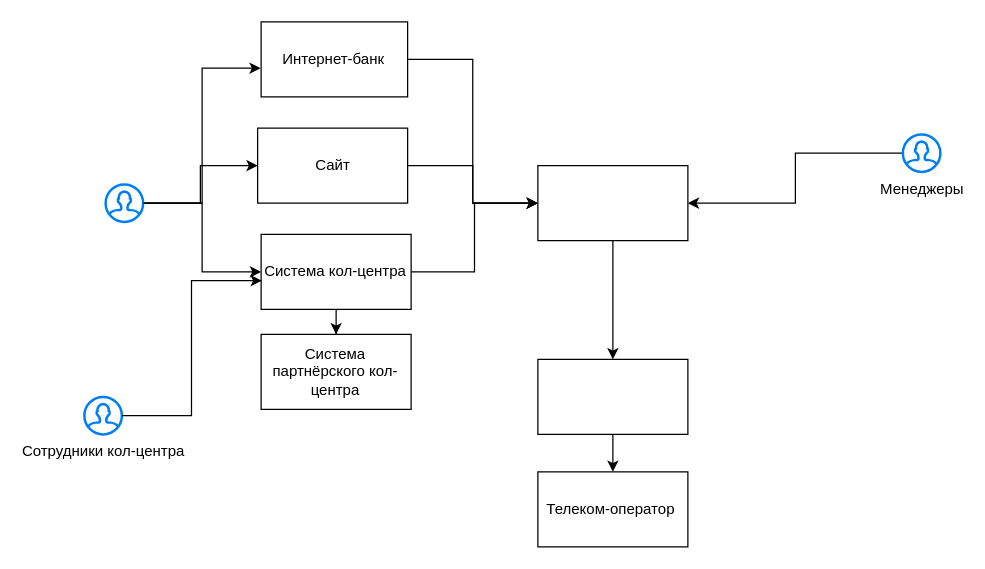
Image size: 985x569. Some labels were removed from this diagram. Each missing label, with the centre of its shape:
"Автоматизированная банковская система" belongs at (612,202).
"Клиент" belongs at (124,202).
"СМС-шлюз телеком-оператора" belongs at (612,396).
